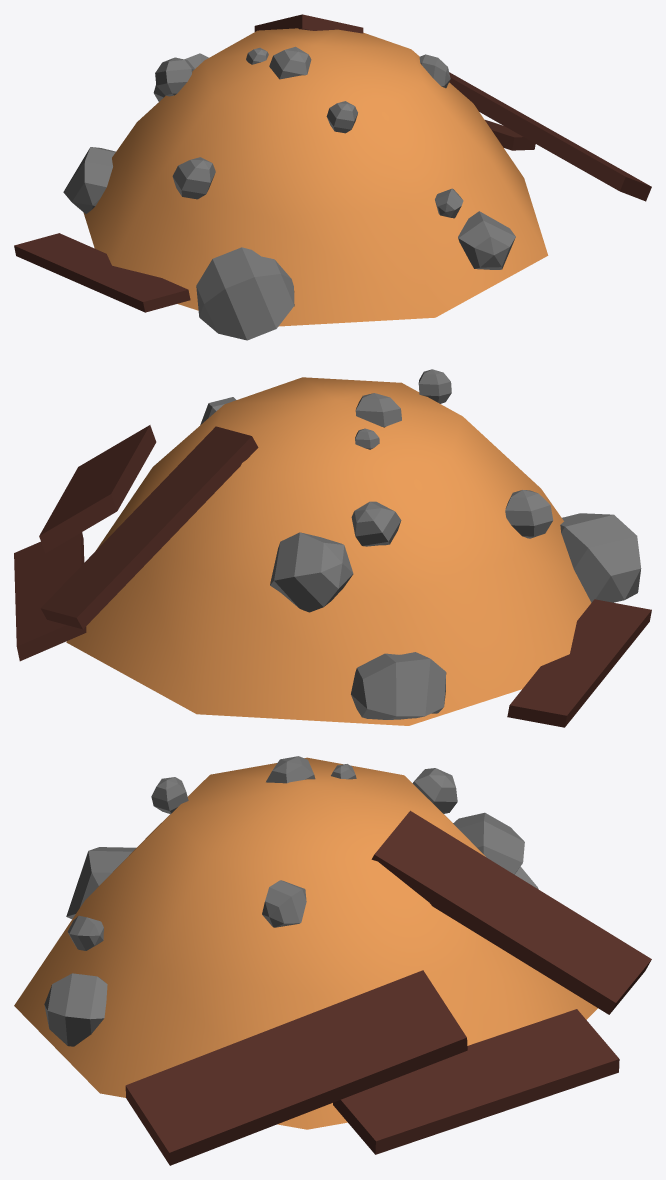
Rendered from Baustelle.fbx.
The picture shows the model from 3 angles, top to bottom: view 1: azimuth 30°, elevation 25°; view 2: azimuth 150°, elevation 25°; view 3: azimuth 270°, elevation 25°; orthographic projection. The views are drawn at different scales.
Parts seen in each view (by area): view 1: Baustelle; view 2: Baustelle; view 3: Baustelle.
Boxes of the visible parts, left/top/right/bottom form: Baustelle: left=14, top=14, right=651, bottom=340; Baustelle: left=14, top=369, right=651, bottom=727; Baustelle: left=14, top=756, right=651, bottom=1165.
Bounding box in the file's own units: 186 × 64.81 × 160.
